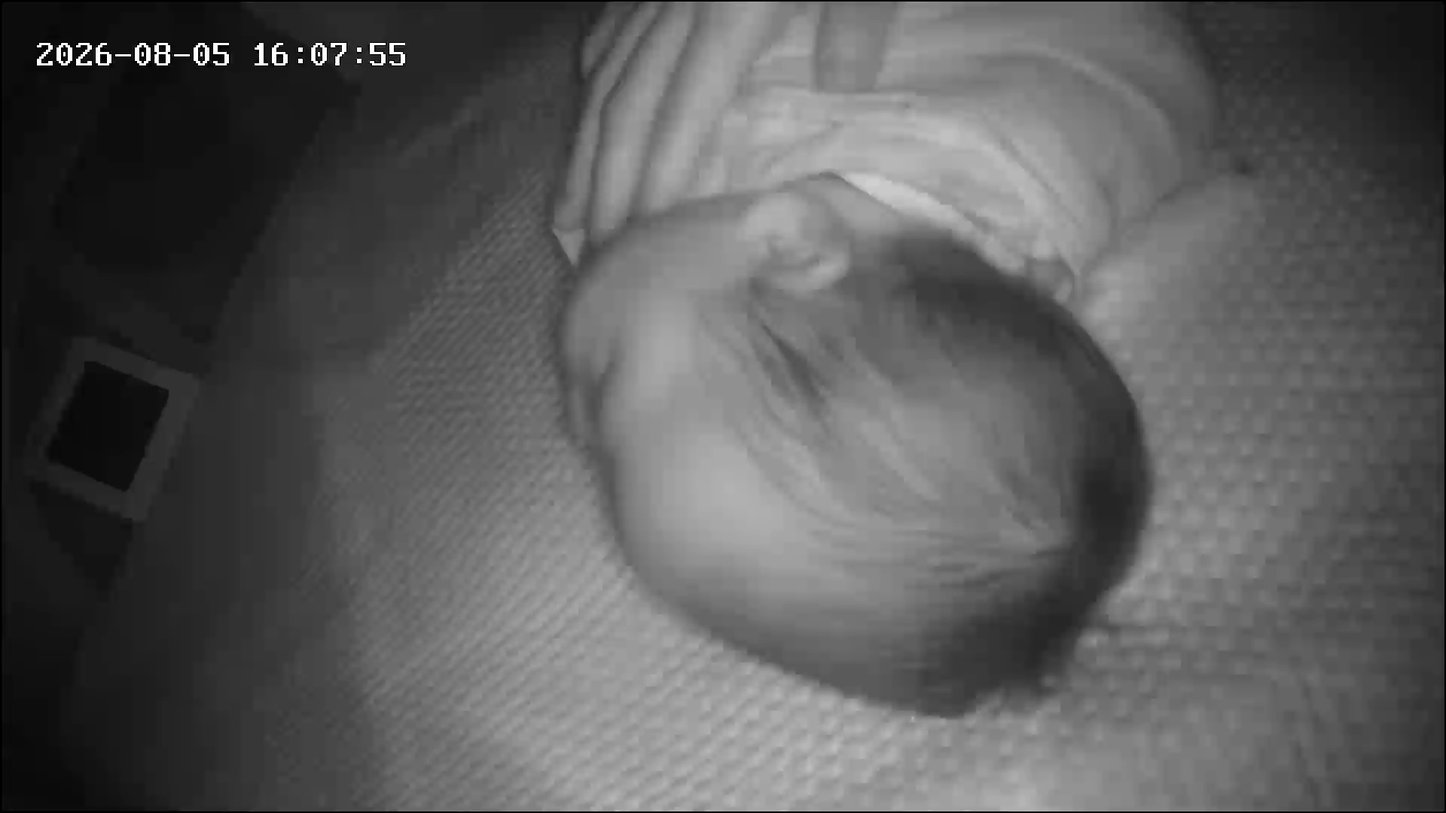baby: (521, 0, 1228, 718)
baby_face: (549, 164, 1157, 714)
